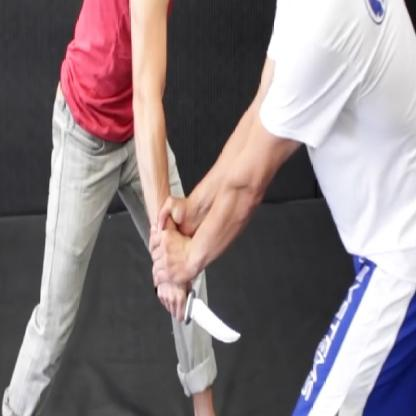knife: (150, 281, 245, 351)
